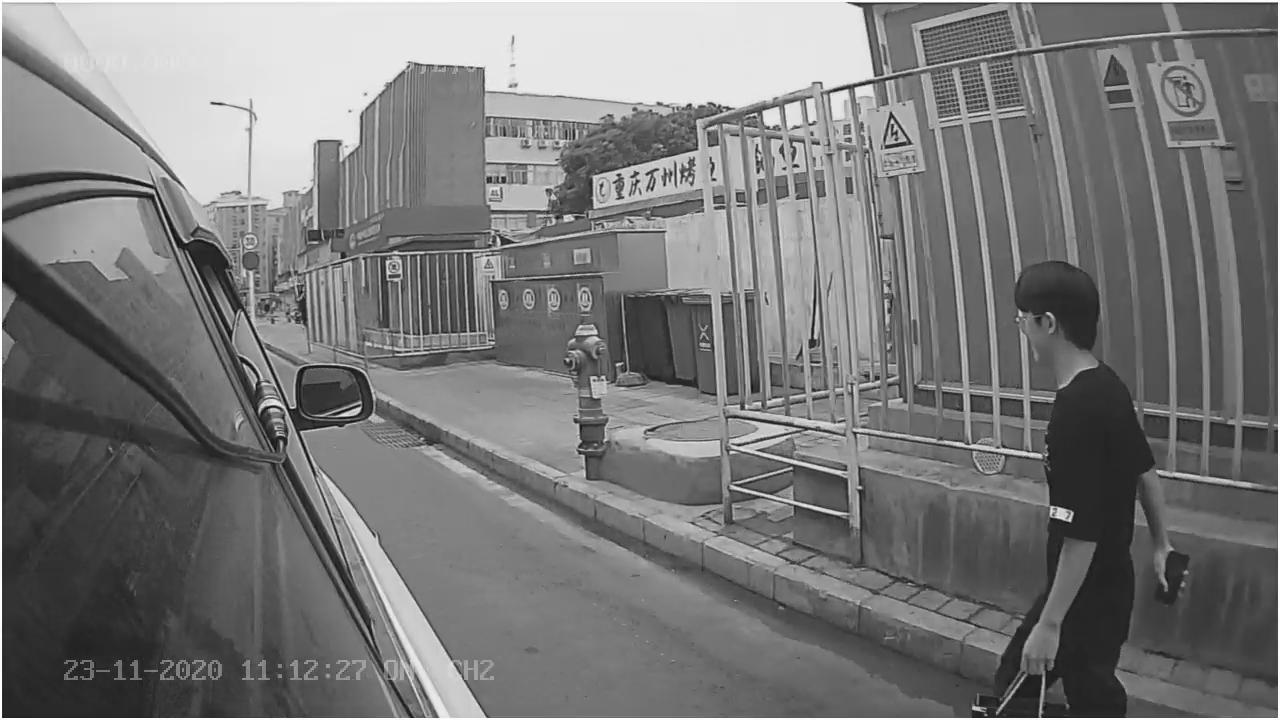person: (993, 261, 1182, 695)
